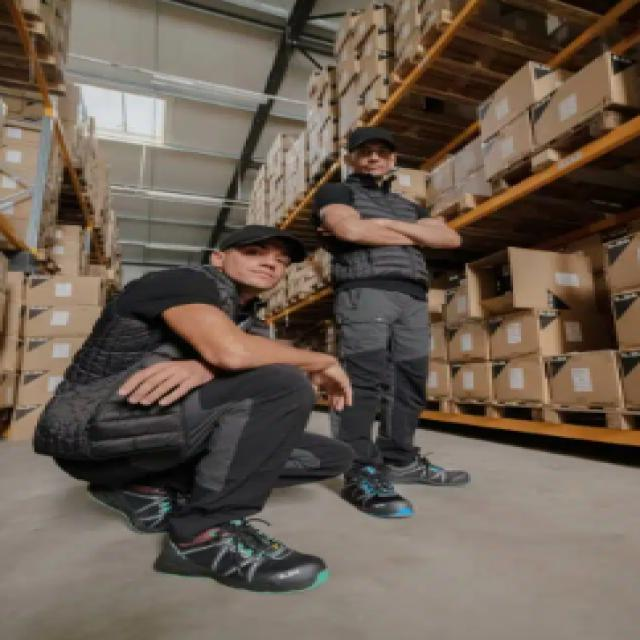boots: (73, 470, 341, 601), (335, 450, 482, 526)
